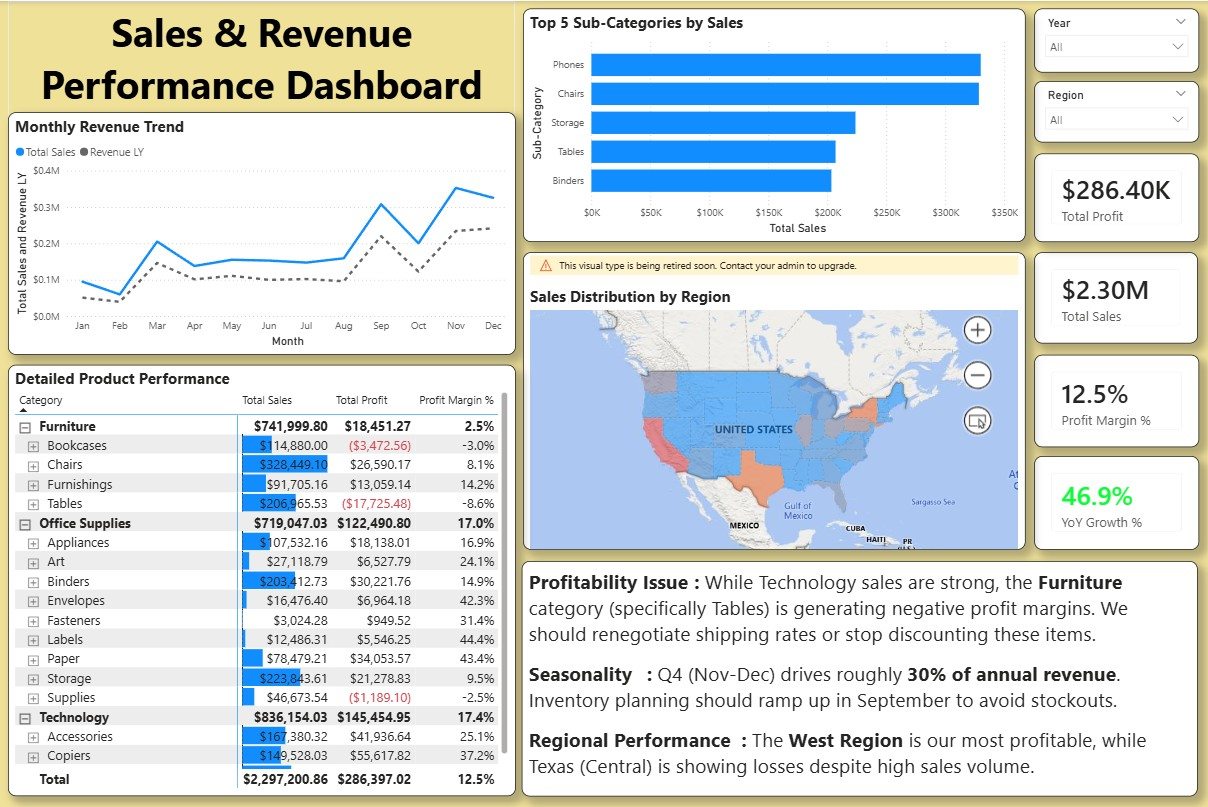

The dashboard page shown, as its layout file describes it:
{"tool":"powerbi","page":{"name":"Sales Executive Overview","canvas":[1500,1000],"ordinal":0},"visuals":[{"type":"textbox","box":[12.4,0,627.7,151.5],"z":0},{"type":"slicer","fields":{"Values":["DateTable.Year"]},"box":[1281.7,9.3,204.1,78.9],"z":1000},{"type":"cardVisual","fields":{"Data":["Key Measures.Total Sales"]},"box":[1281.7,310.8,202.5,112.9],"z":2000},{"type":"slicer","fields":{"Values":["Orders.Region"]},"box":[1281.7,98.9,204.1,75.8],"z":3000},{"type":"cardVisual","fields":{"Data":["Key Measures.Total Profit"]},"box":[1281.7,188.6,204.1,109.8],"z":4000},{"type":"cardVisual","fields":{"Data":["Key Measures.Profit Margin %"]},"box":[1281.7,437.5,204.1,114.4],"z":5000},{"type":"cardVisual","fields":{"Data":["Key Measures.YoY Growth %"]},"box":[1281.7,562.8,204.1,116],"z":6000},{"type":"lineChart","title":"Monthly Revenue Trend","fields":{"Category":["DateTable.Month"],"Y":["Key Measures.Total Sales","Key Measures.Revenue LY"]},"box":[12.4,137.6,627.7,299.9],"z":7000},{"type":"clusteredBarChart","title":"Top 5 Sub-Categories by Sales","fields":{"Category":["Orders.Sub-Category"],"Y":["Key Measures.Total Sales"]},"box":[649.4,9.3,621.5,289.1],"z":8000},{"type":"filledMap","title":"Sales Distribution by Region","fields":{"Category":["Orders.State"]},"box":[649.4,310.8,621.5,368],"z":9000},{"type":"pivotTable","title":"Detailed Product Performance","fields":{"Rows":["Orders.Category","Orders.Sub-Category","Orders.Product Name"],"Values":["Key Measures.Total Sales","Key Measures.Total Profit","Key Measures.Profit Margin %"]},"box":[12.4,449.9,627.7,533.4],"z":10000},{"type":"textbox","title":"💡 Key Executive Insights","box":[648.5,692,836.1,291.6],"z":11000}]}

Visuals, with their boxes in screenshot pixels (x1, y1, x2, y2), scaled from the page's 1500x1000 canvas onto the 1208x807 screenshot:
textbox: {"x1": 10, "y1": 0, "x2": 515, "y2": 122}
slicer - DateTable.Year: {"x1": 1032, "y1": 8, "x2": 1197, "y2": 71}
cardVisual - Key Measures.Total Sales: {"x1": 1032, "y1": 251, "x2": 1195, "y2": 342}
slicer - Orders.Region: {"x1": 1032, "y1": 80, "x2": 1197, "y2": 141}
cardVisual - Key Measures.Total Profit: {"x1": 1032, "y1": 152, "x2": 1197, "y2": 241}
cardVisual - Key Measures.Profit Margin %: {"x1": 1032, "y1": 353, "x2": 1197, "y2": 445}
cardVisual - Key Measures.YoY Growth %: {"x1": 1032, "y1": 454, "x2": 1197, "y2": 548}
"Monthly Revenue Trend" lineChart: {"x1": 10, "y1": 111, "x2": 515, "y2": 353}
"Top 5 Sub-Categories by Sales" clusteredBarChart: {"x1": 523, "y1": 8, "x2": 1023, "y2": 241}
"Sales Distribution by Region" filledMap: {"x1": 523, "y1": 251, "x2": 1023, "y2": 548}
"Detailed Product Performance" pivotTable: {"x1": 10, "y1": 363, "x2": 515, "y2": 794}
"💡 Key Executive Insights" textbox: {"x1": 522, "y1": 558, "x2": 1196, "y2": 794}
